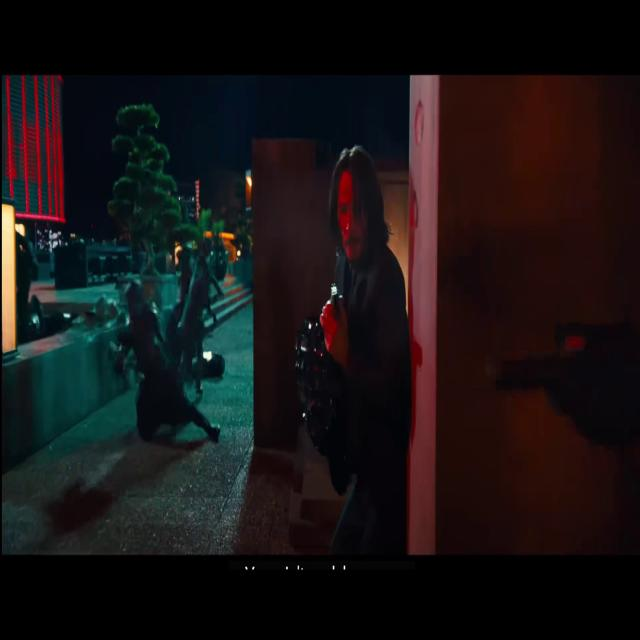weapons: (323, 266, 347, 370)
